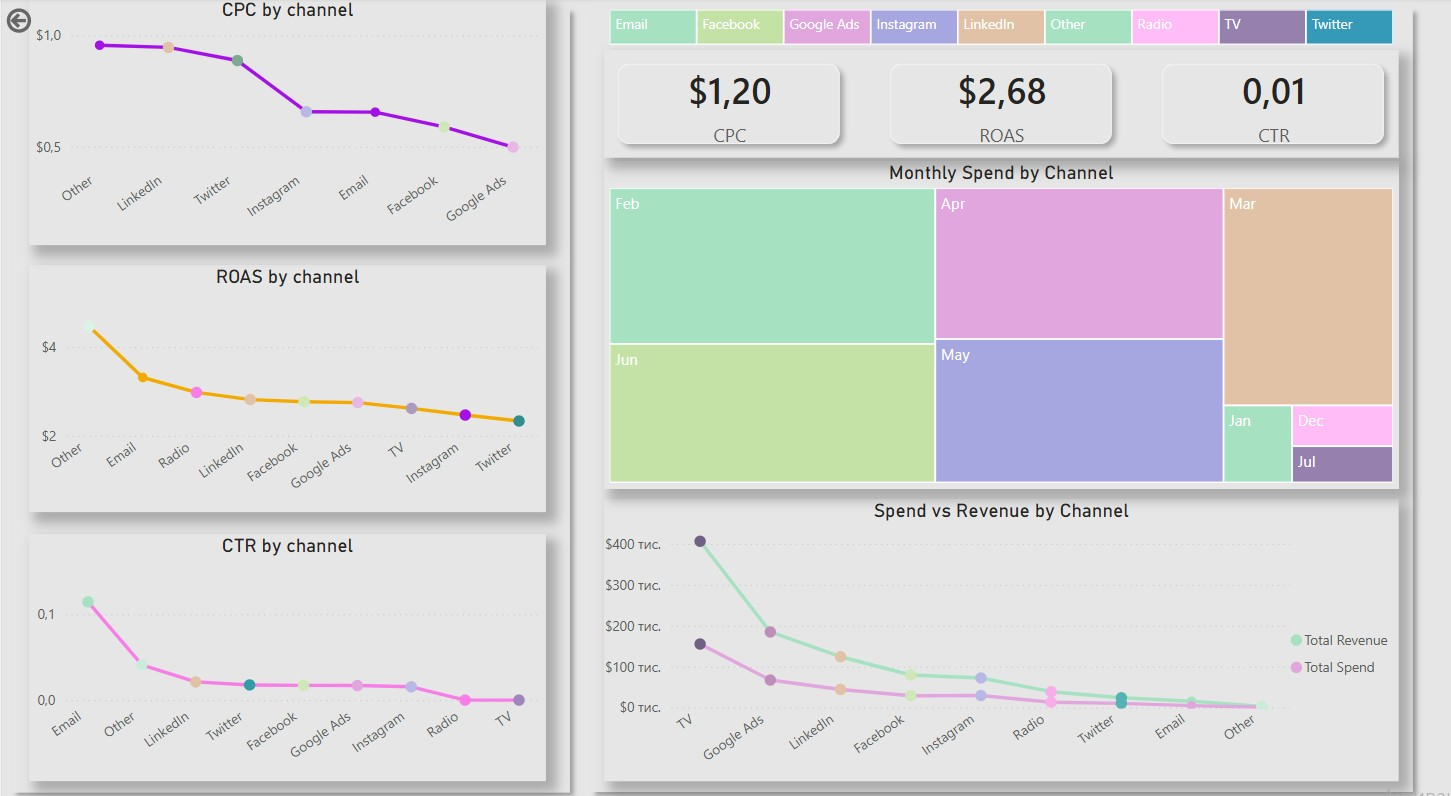

This screenshot's page, from the dashboard's own definition file:
{"tool":"powerbi","page":{"name":"Channel Performance","canvas":[1280,720],"ordinal":1},"visuals":[{"type":"shape","box":[0,0,509.9,709.7],"z":0},{"type":"shape","box":[510.4,0,742.7,709.4],"z":1000},{"type":"lineChart","title":"ROAS by channel","fields":{"Category":["Data.channel"],"Y":["Measure.ROAS"]},"box":[24,235.4,456.2,217.7],"z":2000},{"type":"lineChart","title":"CTR by channel","fields":{"Y":["Measure.CTR"],"Category":["Data.channel"]},"box":[24,472.9,456.2,217.7],"z":3000},{"type":"lineChart","title":"CPC by channel","fields":{"Y":["Measure.CPC"],"Category":["Data.channel"]},"box":[24,0,456.2,217.7],"z":4000},{"type":"lineChart","title":"Spend vs Revenue by Channel","fields":{"Y":["Measure.Total_Revenue","Measure.Total_Spend"],"Category":["Data.channel"]},"box":[531.2,441.7,701,249],"z":5000},{"type":"treemap","title":"Monthly Spend by Channel","fields":{"Group":["dimDate.Year Ієрархія.Year","dimDate.Year Ієрархія.Quarter","dimDate.Year Ієрархія.Month Name","Data.channel"],"Values":["Measure.Total_Spend"]},"box":[531.2,143.8,701,288.5],"z":6000},{"type":"treemap","fields":{"Group":["Data.channel"],"Values":["Measure.Slicer Size"]},"box":[531.2,5.2,701,40.6],"z":7000},{"type":"cardVisual","fields":{"Data":["Measure.CPC","Measure.ROAS","Measure.CTR"]},"box":[531.2,45.8,701,95],"z":8000},{"type":"actionButton","box":[0,0,29.9,40.4],"z":9000}]}

Visuals, with their boxes in screenshot pixels (x1, y1, x2, y2), scaled from the page's 1280x720 canvas onto the 1451x796 screenshot:
shape: region(0, 0, 578, 785)
shape: region(579, 0, 1421, 784)
"ROAS by channel" lineChart: region(27, 260, 544, 501)
"CTR by channel" lineChart: region(27, 523, 544, 763)
"CPC by channel" lineChart: region(27, 0, 544, 241)
"Spend vs Revenue by Channel" lineChart: region(602, 488, 1397, 764)
"Monthly Spend by Channel" treemap: region(602, 159, 1397, 478)
treemap - Data.channel x Measure.Slicer Size: region(602, 6, 1397, 51)
cardVisual - Measure.CPC x Measure.ROAS: region(602, 51, 1397, 156)
actionButton: region(0, 0, 34, 45)
